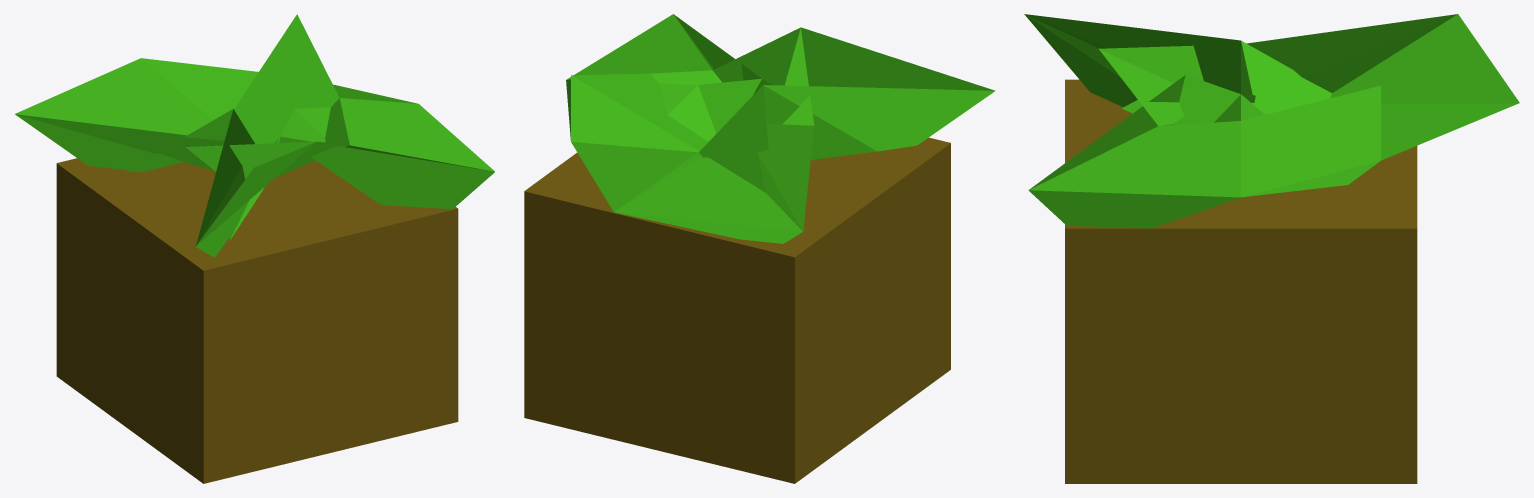
The model's file is grass_summer_1.glb.
3 renders of one model, left to right at view 1: azimuth 30°, elevation 25°; view 2: azimuth 150°, elevation 25°; view 3: azimuth 270°, elevation 25°, orthographic. The views are drawn at different scales.
Parts seen in each view (by area): view 1: Cube; view 2: Cube; view 3: Cube.
Boxes of the visible parts, x1,y1,x2,y2 form: Cube: (15, 14, 494, 483); Cube: (524, 14, 995, 483); Cube: (1024, 14, 1519, 483).
Size of the model in its own units: 2.46 by 2.39 by 2.82.
